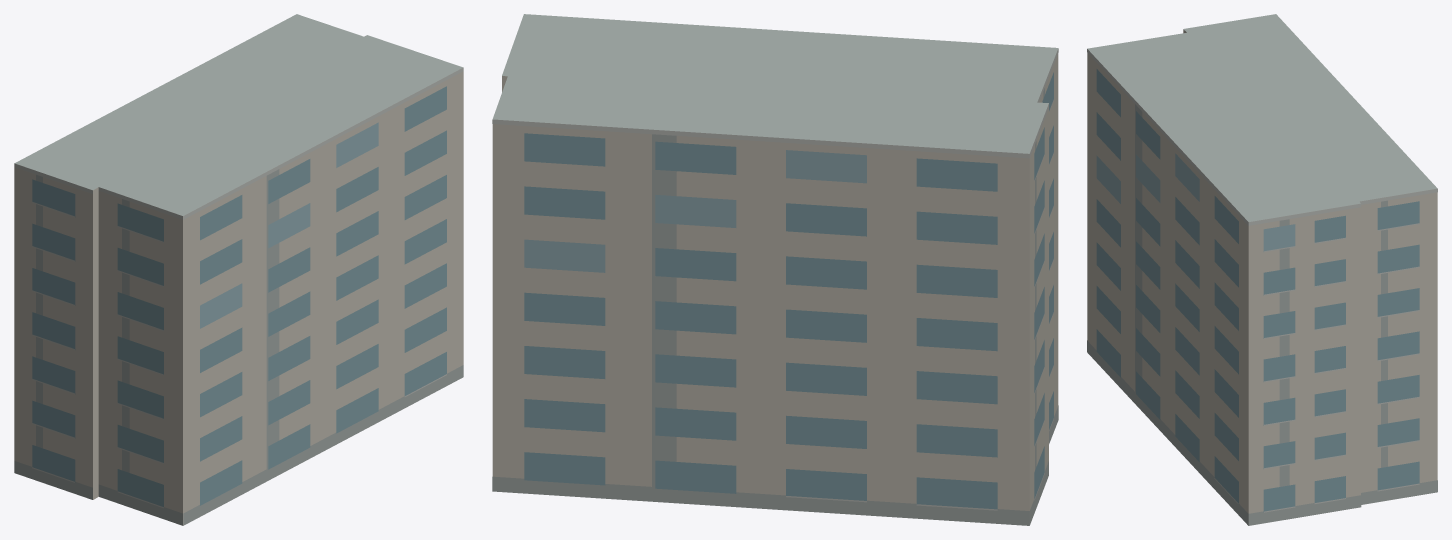
File: survey-upis-32868633.glb
3 renders of one model, left to right at view 1: azimuth 30°, elevation 25°; view 2: azimuth 150°, elevation 25°; view 3: azimuth 270°, elevation 25°, orthographic. The views are drawn at different scales.
Visible parts, largest first — view 1: survey-upis-32868633.tmp; view 2: survey-upis-32868633.tmp; view 3: survey-upis-32868633.tmp.
Boxes of the visible parts, x1,y1,x2,y2 form: survey-upis-32868633.tmp: [14, 14, 463, 525]; survey-upis-32868633.tmp: [492, 14, 1058, 525]; survey-upis-32868633.tmp: [1087, 14, 1437, 525].
Size of the model in its own units: 29.27 by 19.9 by 20.83.
